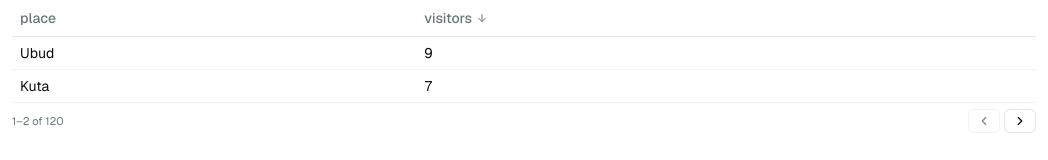
RawTable › pages through the records route with its columns, its saved sort and the dashboard's filters
Step 1. Click the button named "Next page" → {"x": 1020, "y": 121}, box [1004,109,1036,133]
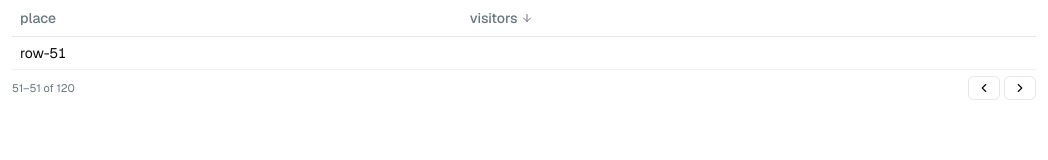
Expected: the button "visitors" is shown, [470,6,533,30]
Expected: the text "row-51" is shown, [12,36,462,69]
